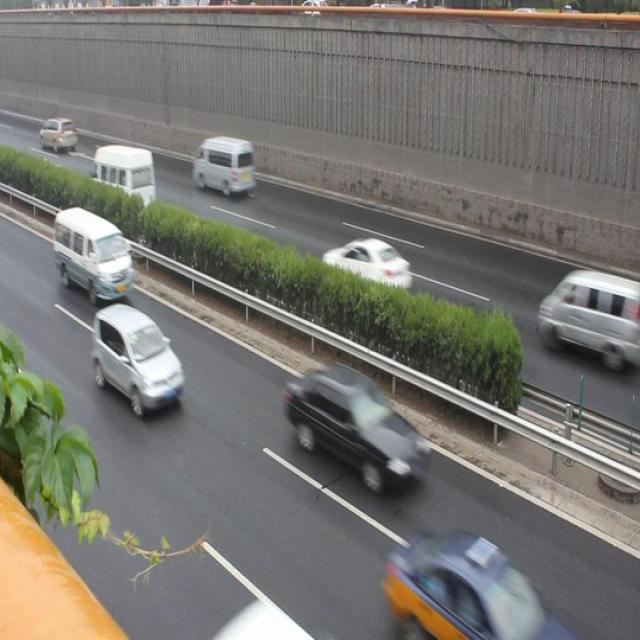car: (381, 519, 571, 640), (286, 364, 430, 495), (92, 301, 189, 420), (322, 234, 413, 306), (38, 112, 80, 153)
truck: (538, 264, 631, 364), (50, 202, 133, 301), (216, 584, 335, 640), (94, 140, 159, 210), (189, 130, 254, 200)
